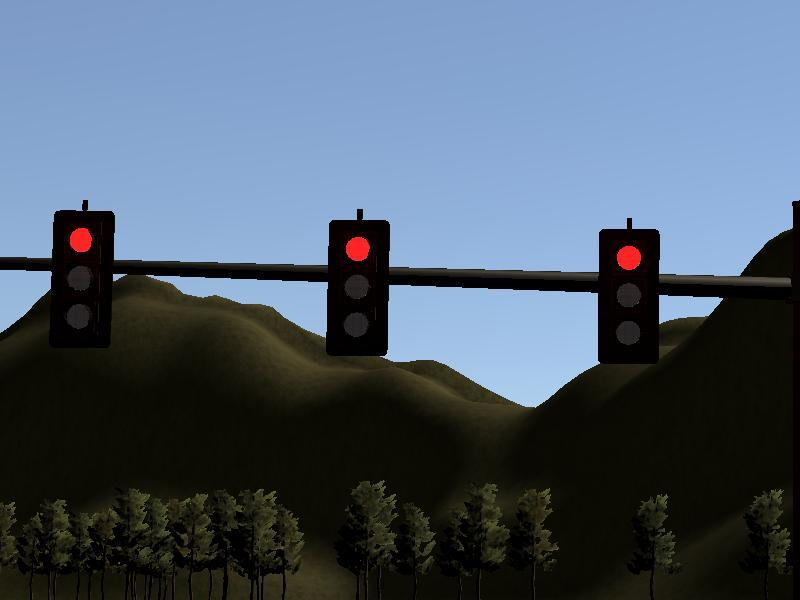Red: (324, 220, 389, 357), (596, 229, 660, 365), (52, 212, 113, 347)
